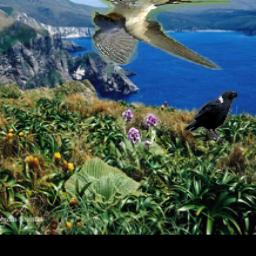Crow: (183, 91, 237, 143)
Swallow: (93, 0, 233, 70)
